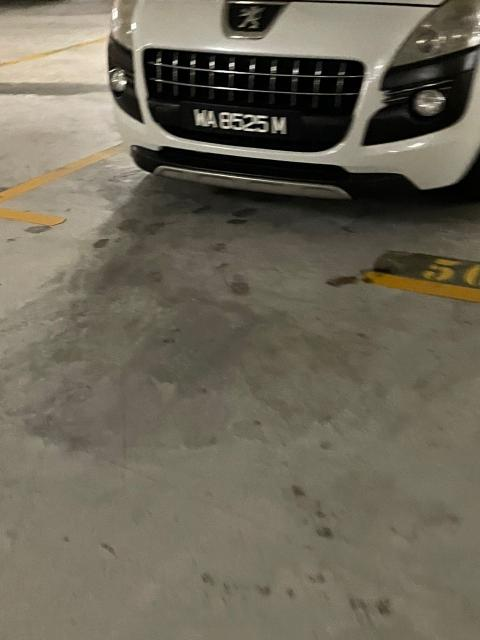License_Plate: (175, 100, 306, 148)
car: (91, 1, 480, 229)
